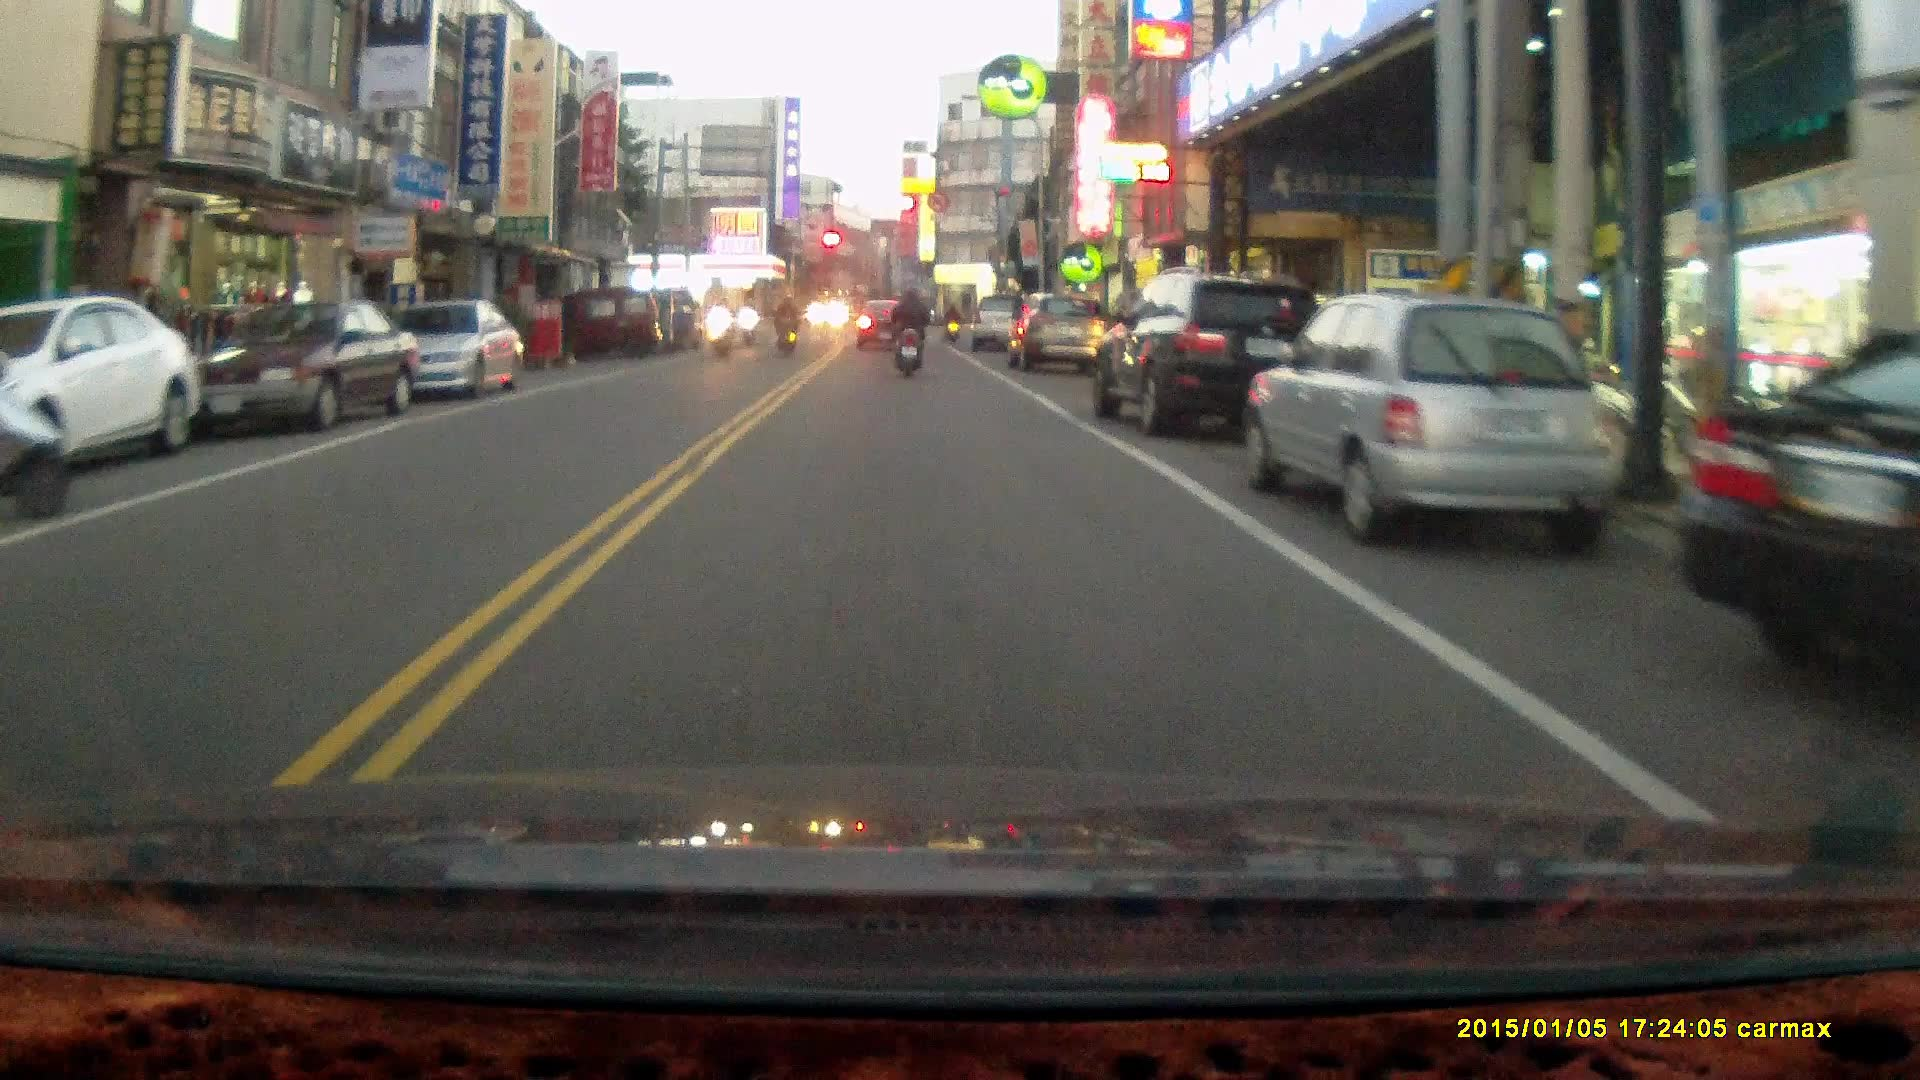rider: (0, 345, 76, 523), (887, 285, 928, 377), (772, 293, 800, 352), (707, 295, 735, 357), (735, 294, 759, 349), (939, 300, 961, 344)
vehicle: (1236, 295, 1632, 551), (1676, 325, 1920, 703), (1086, 270, 1330, 443), (2, 290, 207, 488), (162, 295, 419, 431), (376, 297, 526, 404), (1015, 292, 1115, 376), (579, 289, 663, 357), (971, 295, 1035, 352)
